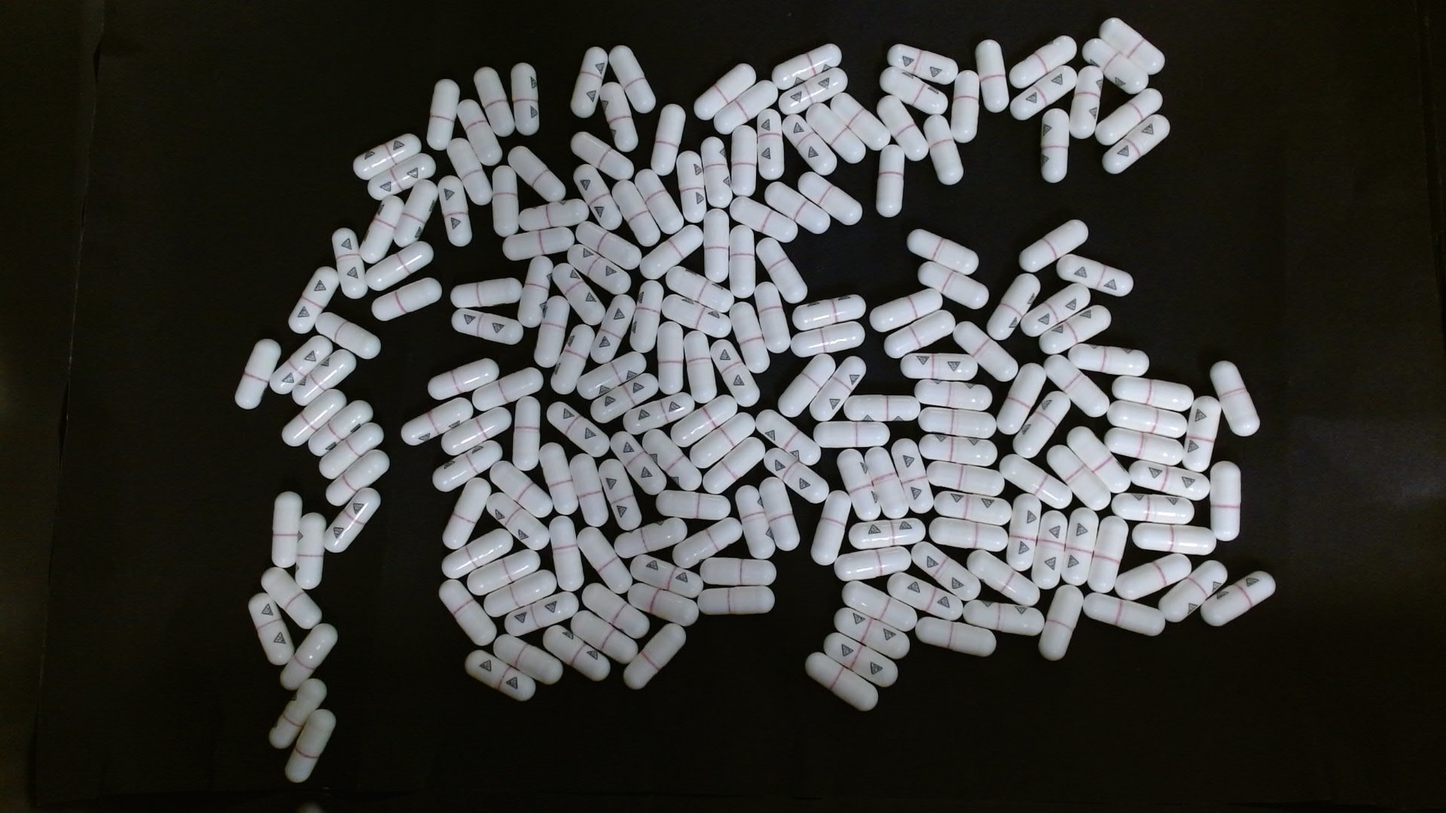Capsule: (906, 539, 986, 607), (1062, 425, 1129, 498), (1156, 560, 1229, 626), (1016, 279, 1094, 340), (1101, 111, 1173, 177), (821, 632, 900, 691), (578, 580, 650, 644), (1047, 443, 1112, 513), (806, 650, 883, 709), (780, 353, 847, 420), (886, 569, 966, 625), (1200, 570, 1277, 628), (320, 484, 382, 556), (830, 605, 911, 660), (1006, 63, 1079, 124), (966, 548, 1040, 608), (454, 367, 541, 418), (1044, 352, 1110, 419), (805, 354, 870, 422), (1010, 389, 1073, 459), (641, 426, 705, 494), (762, 445, 831, 508), (399, 395, 480, 448), (757, 406, 824, 470), (261, 565, 322, 635), (1081, 37, 1152, 97), (270, 677, 329, 749), (728, 194, 805, 249), (478, 569, 561, 620), (803, 101, 869, 165), (624, 623, 687, 690), (955, 321, 1023, 383), (778, 105, 840, 173), (290, 346, 360, 406), (315, 422, 385, 482), (686, 411, 757, 470), (704, 433, 770, 496), (484, 491, 551, 553), (432, 438, 506, 494), (320, 447, 389, 507), (440, 526, 516, 580), (489, 459, 553, 523), (282, 388, 347, 451), (796, 170, 864, 230), (1096, 87, 1164, 147), (840, 580, 914, 635), (709, 335, 764, 409), (1007, 35, 1078, 92), (1210, 359, 1261, 438), (693, 61, 759, 122), (1096, 16, 1163, 76), (712, 78, 780, 137), (565, 241, 633, 300), (575, 525, 632, 595), (1002, 455, 1073, 511), (440, 577, 496, 648), (269, 333, 332, 396), (829, 91, 894, 152), (1105, 397, 1193, 442), (670, 516, 742, 571), (547, 400, 613, 460), (307, 400, 375, 458), (996, 363, 1050, 436), (440, 403, 513, 457), (465, 547, 542, 598), (670, 393, 740, 449), (631, 166, 686, 237), (502, 588, 580, 638), (890, 438, 940, 516), (442, 475, 492, 553), (608, 431, 667, 497), (570, 131, 638, 188), (571, 609, 639, 666), (587, 370, 660, 423), (351, 132, 424, 185), (1115, 551, 1192, 601), (365, 240, 436, 294), (464, 649, 539, 700), (574, 351, 649, 402), (1082, 592, 1165, 638), (630, 553, 706, 603), (879, 307, 955, 357), (1036, 303, 1109, 355), (661, 263, 734, 315), (286, 265, 340, 335), (390, 178, 441, 252), (763, 180, 828, 238), (544, 623, 612, 678), (365, 150, 438, 201), (1019, 218, 1089, 271), (288, 705, 337, 780), (538, 443, 581, 528), (573, 162, 625, 232), (987, 273, 1042, 339), (620, 391, 697, 438), (575, 220, 642, 274), (1128, 458, 1212, 501), (426, 355, 506, 400), (233, 337, 281, 412), (758, 237, 810, 306), (493, 634, 562, 686), (248, 592, 297, 665), (611, 178, 663, 246), (877, 95, 929, 163), (836, 448, 883, 523), (1039, 584, 1084, 662), (908, 228, 981, 276), (879, 67, 949, 117), (315, 308, 381, 361), (917, 263, 988, 312), (863, 445, 910, 519), (1106, 375, 1194, 414), (446, 133, 493, 206), (771, 43, 844, 90), (371, 277, 447, 322), (642, 223, 703, 279), (1087, 514, 1129, 595), (1106, 425, 1185, 468), (736, 485, 780, 562), (508, 145, 567, 202), (569, 454, 611, 534), (918, 617, 999, 658), (608, 44, 656, 113), (553, 263, 607, 324), (868, 288, 941, 333), (547, 515, 587, 597), (1068, 342, 1154, 380), (1059, 254, 1135, 297), (570, 43, 613, 119), (758, 476, 802, 550), (779, 67, 847, 114), (1063, 507, 1102, 588), (456, 99, 501, 169), (810, 487, 850, 565), (962, 598, 1040, 638), (1130, 522, 1218, 557), (618, 518, 693, 559), (927, 516, 1010, 553), (886, 44, 959, 86), (1110, 489, 1195, 525), (359, 195, 404, 263), (927, 460, 1005, 499), (847, 514, 927, 552), (287, 620, 339, 678), (664, 293, 734, 336), (791, 292, 868, 331), (833, 544, 912, 582), (330, 226, 370, 301), (592, 291, 635, 360), (932, 490, 1010, 528), (751, 280, 790, 356), (1008, 493, 1046, 570), (1182, 396, 1222, 469), (474, 67, 514, 140), (731, 297, 770, 371), (916, 406, 998, 441), (791, 320, 866, 358), (597, 458, 641, 522), (516, 255, 554, 328), (923, 113, 962, 184), (628, 282, 663, 361), (632, 586, 701, 626), (654, 489, 735, 523), (914, 379, 995, 413), (553, 325, 594, 392), (1209, 459, 1242, 542), (453, 309, 525, 347), (438, 175, 474, 250), (534, 296, 570, 371), (674, 150, 710, 225), (921, 434, 997, 469), (682, 328, 717, 403), (699, 556, 778, 589), (520, 198, 590, 235), (651, 105, 686, 179), (1069, 65, 1104, 139), (1035, 510, 1069, 586), (270, 489, 303, 567), (600, 82, 636, 152), (900, 350, 976, 383), (974, 38, 1007, 111), (426, 78, 459, 151), (292, 510, 325, 583), (504, 227, 574, 261), (450, 276, 522, 309), (813, 419, 886, 451), (654, 320, 686, 393), (841, 393, 921, 422), (1039, 105, 1069, 182), (703, 208, 731, 289), (701, 137, 732, 210), (699, 586, 774, 616), (511, 395, 541, 468), (511, 62, 540, 136), (728, 224, 755, 303), (877, 146, 905, 221), (756, 107, 785, 179), (730, 123, 758, 197), (950, 69, 980, 136), (490, 165, 519, 234)
